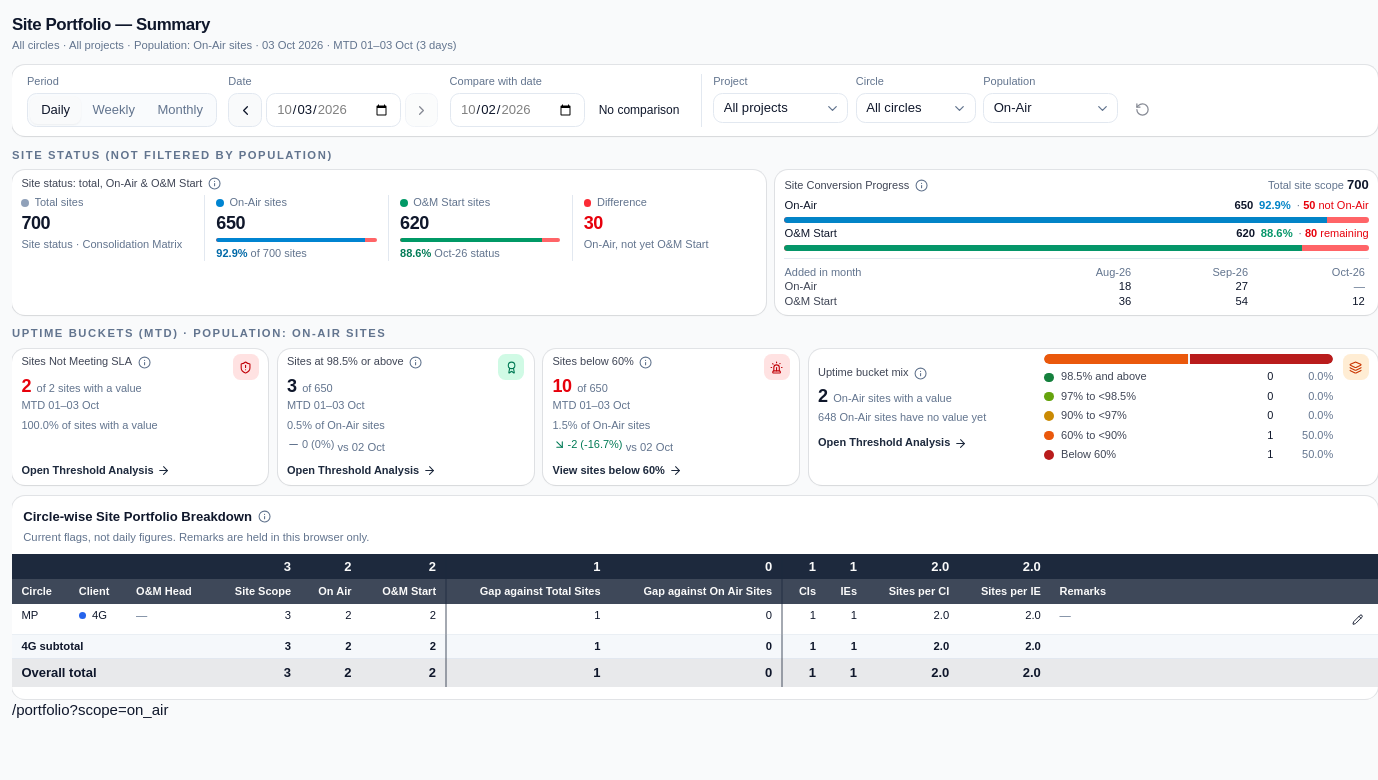
Scenario: Site Portfolio › uses only the selected population for every performance figure and refetches when it changes
The width and height of the screenshot is (1378, 780).
Expected: the heading "Site Portfolio — Summary" is shown, [12, 15, 210, 34]
Expected: the text "10" is shown, [552, 377, 572, 396]
Click the dropdown named "Population" at (1051, 108), box [983, 93, 1118, 123]
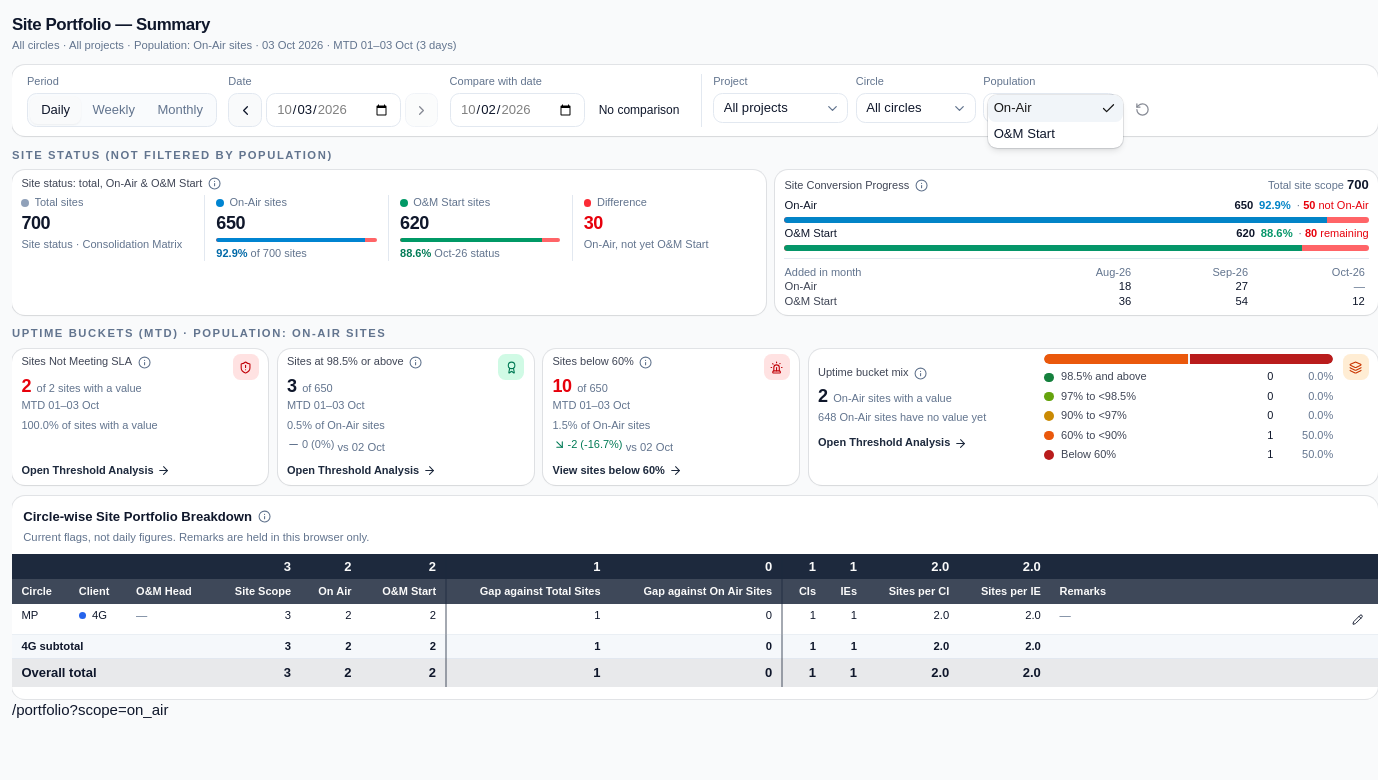
Now the options read "On-Air", "O&M Start", in this order
Click the option "O&M Start" at (1024, 134), box [994, 126, 1055, 141]
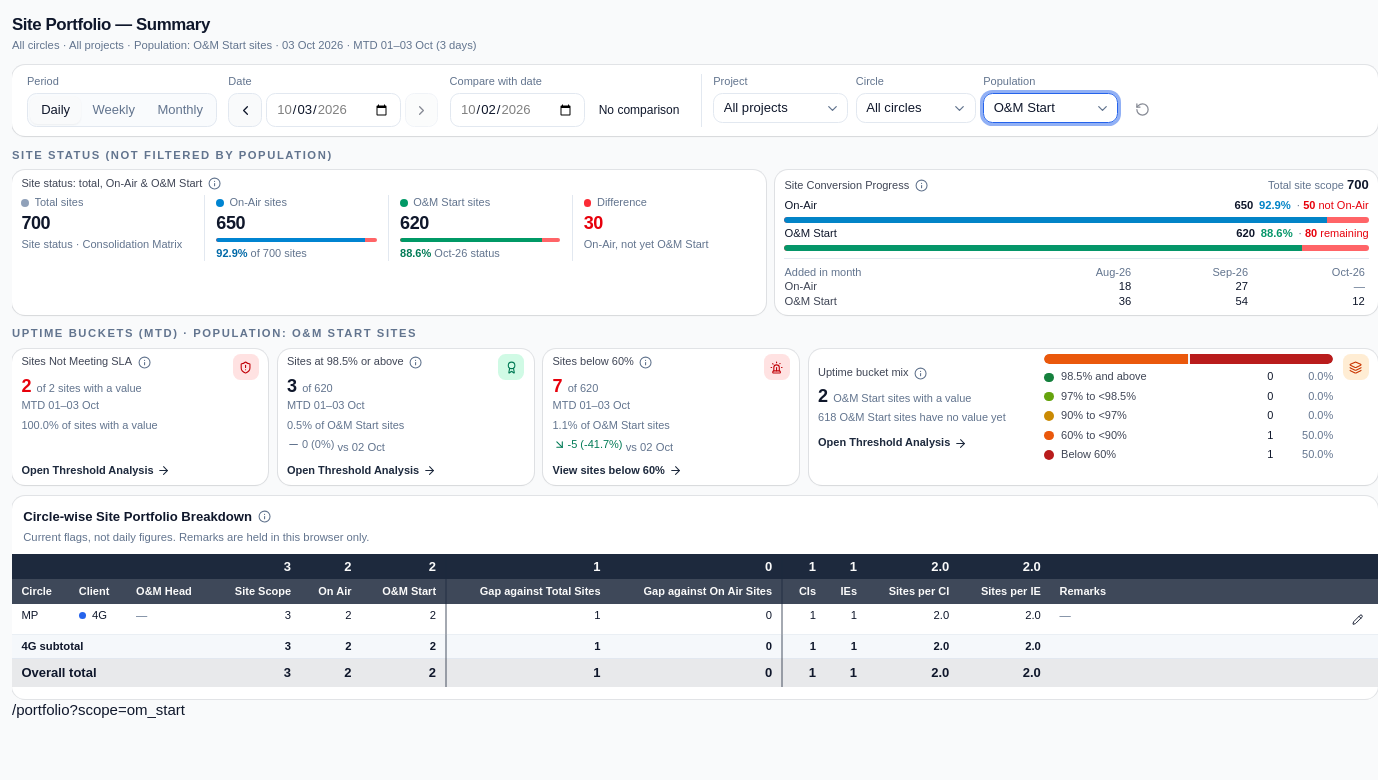
Now the element "Uptime buckets (MTD) · Population: O&M Start sites" is shown, box [12, 326, 1377, 485]
Now the text "7" is shown, box [552, 377, 562, 396]
Now the text with test id "location" shows "scope=om_start", box [70, 701, 185, 718]
